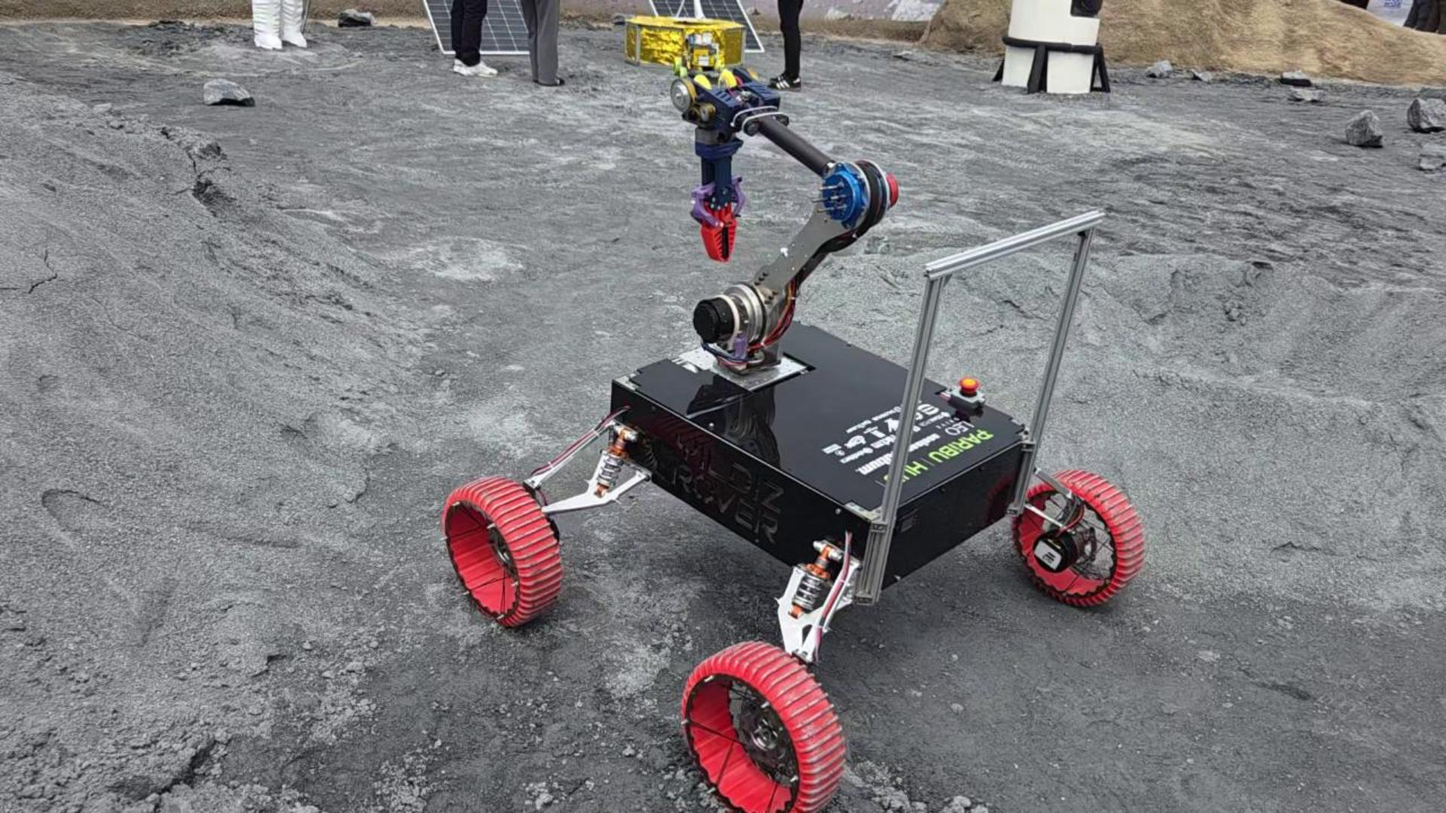rock: (203, 79, 254, 106), (1345, 110, 1382, 147), (1406, 97, 1445, 132), (338, 9, 374, 27), (1146, 60, 1174, 78), (1279, 71, 1312, 86)
